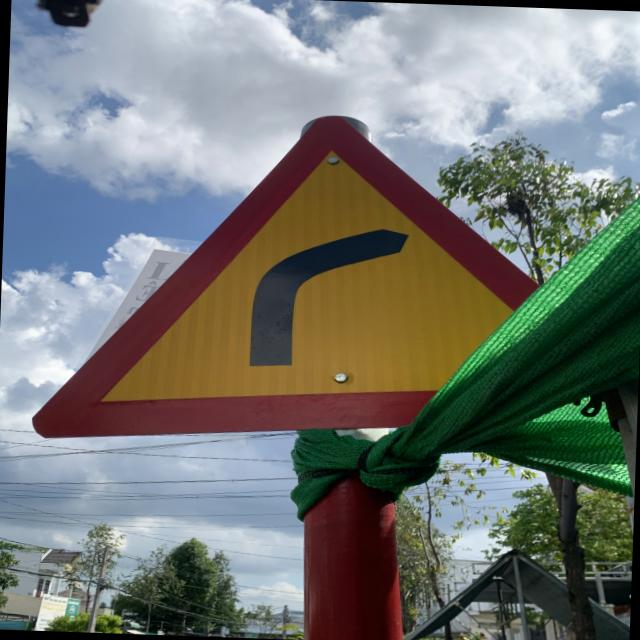Duong_Nguoi_Di_Bo_Cat_Ngang: (36, 108, 526, 457)
